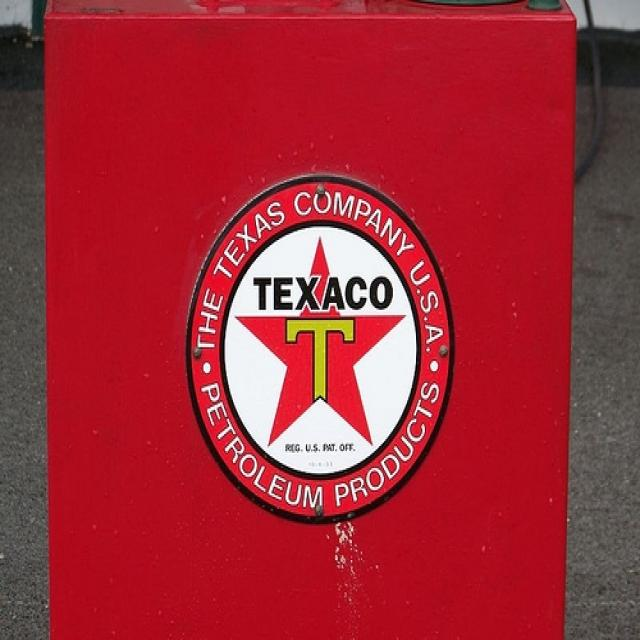texaco: (222, 224, 421, 476)
